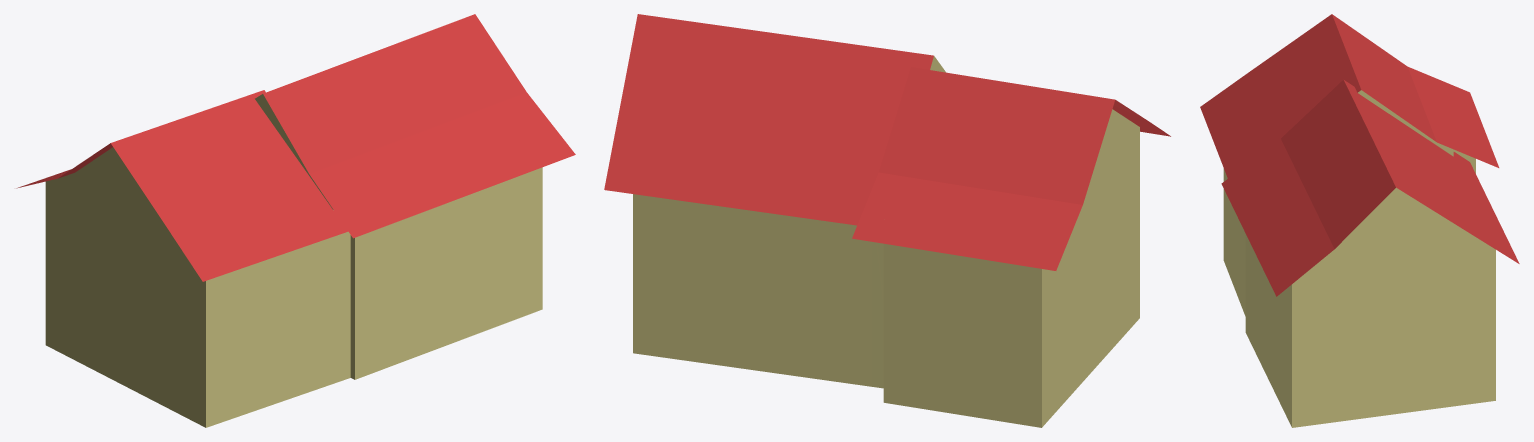
The picture shows the model from 3 angles, left to right: view 1: azimuth 30°, elevation 25°; view 2: azimuth 150°, elevation 25°; view 3: azimuth 270°, elevation 25°; orthographic projection. The views are drawn at different scales.
Size of the model in its own units: 23.53 by 15.55 by 12.64.
